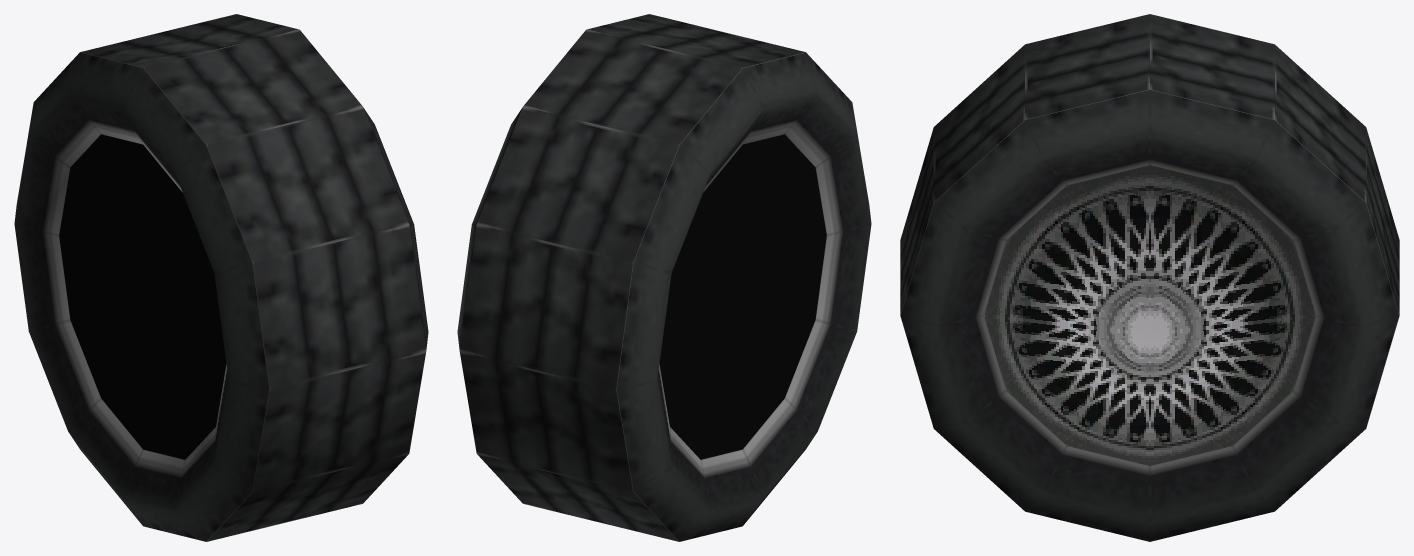
Rendered from DefaultWheel_premier.glb.
The picture shows the model from 3 angles, left to right: view 1: azimuth 30°, elevation 25°; view 2: azimuth 150°, elevation 25°; view 3: azimuth 270°, elevation 25°; orthographic projection.
Visible parts, largest first — view 1: wheel; view 2: wheel; view 3: wheel.
Boxes of the visible parts, x1,y1,x2,y2 form: wheel: (14, 14, 428, 541); wheel: (457, 14, 871, 541); wheel: (900, 14, 1399, 541).
Size of the model in its own units: 0.3466 by 0.7 by 0.7.
Materials: 3 (3 with a texture image).
